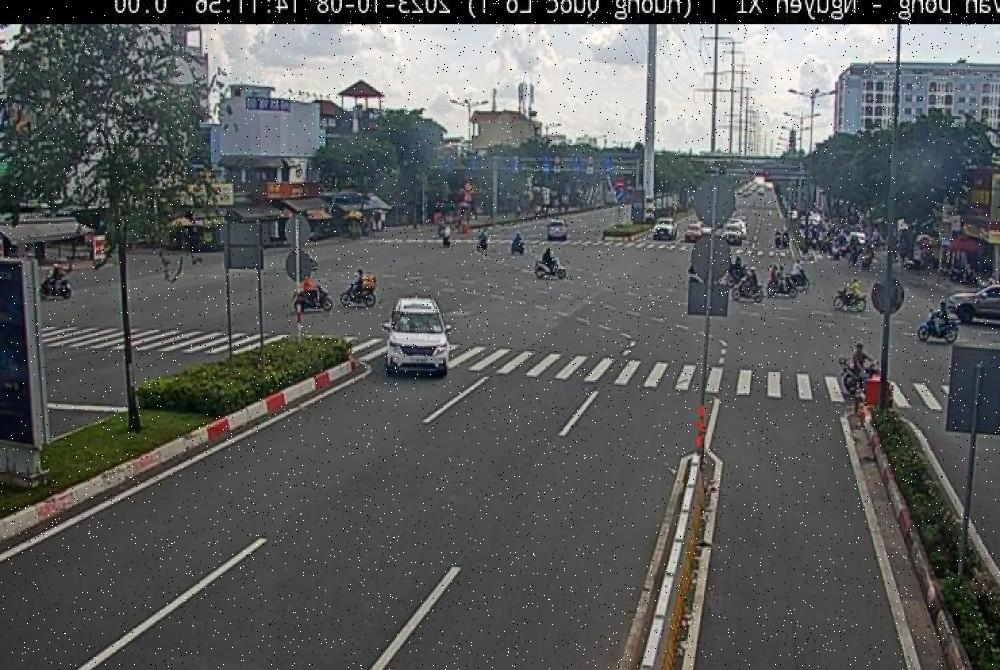car: (374, 275, 455, 391), (950, 270, 1000, 336)
